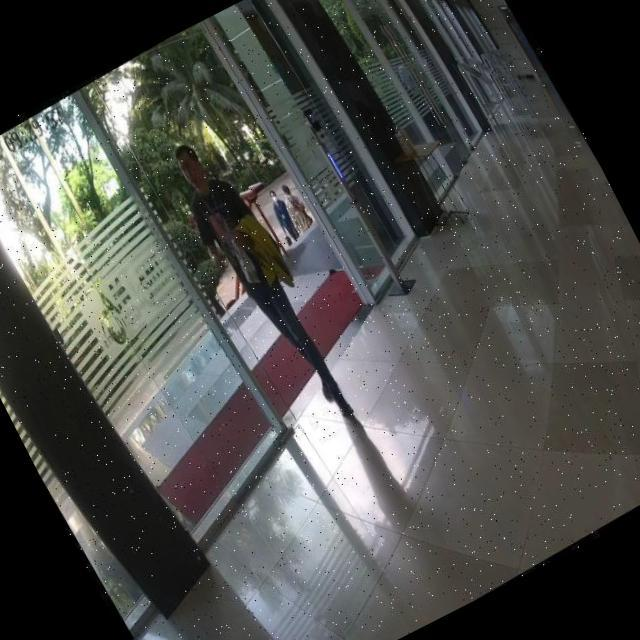person: (154, 125, 366, 442), (262, 184, 308, 251), (276, 179, 318, 238)
